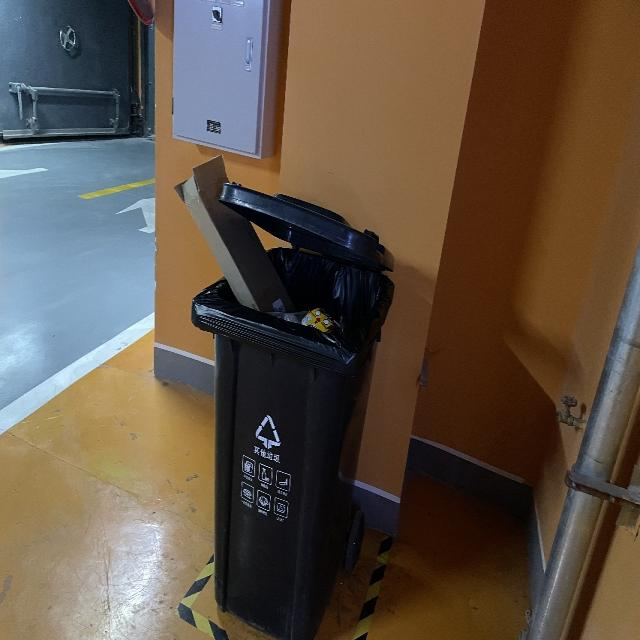overflow: (172, 153, 394, 639)
